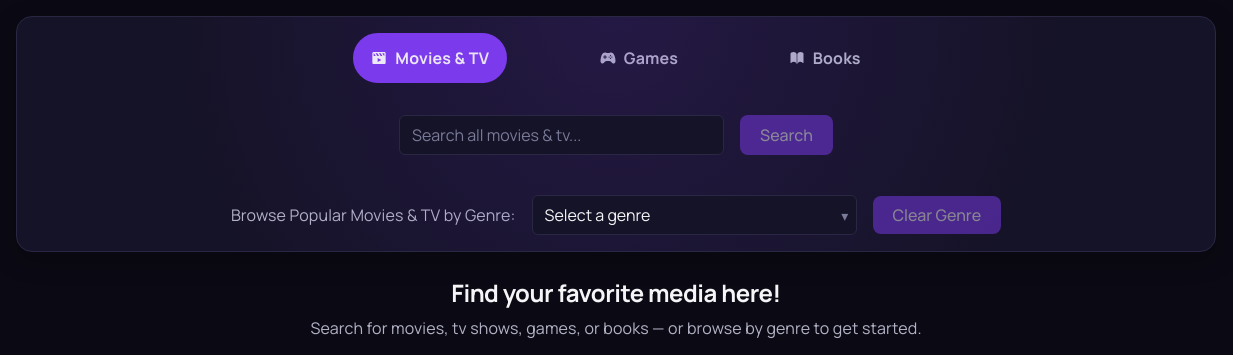
Test: SearchPage › should clear the search input when clicking clear
Type "Matilda" into the field named "Search input" at {"x": 562, "y": 135}, box [399,115,724,155]
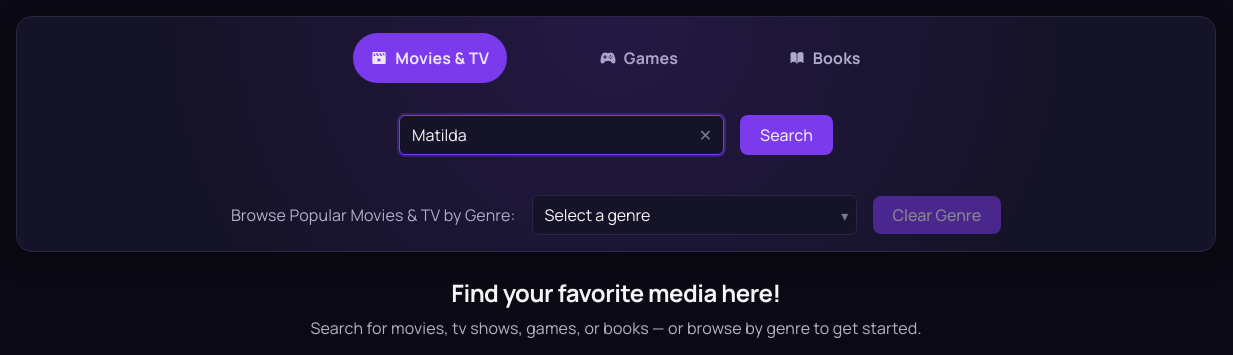
Click the button named "clear search" at {"x": 705, "y": 135}, box [695,120,716,150]
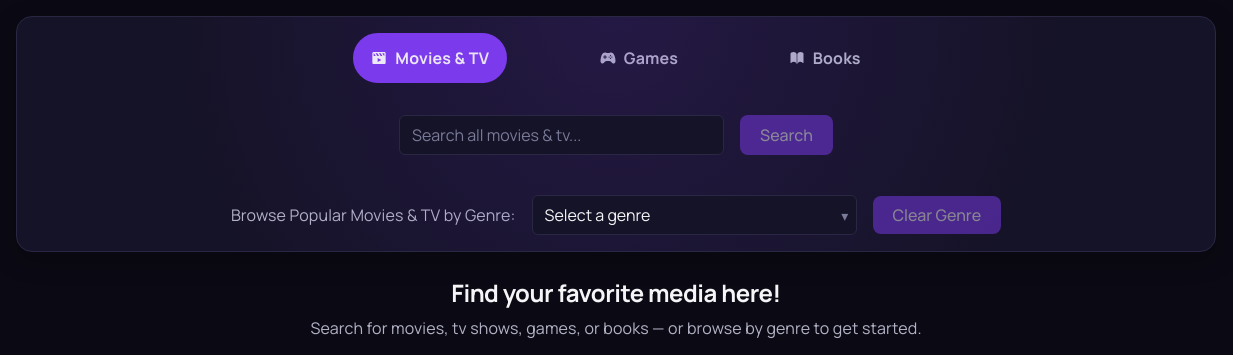
Expected: the field named "Search input" is empty, [399,115,724,155]
